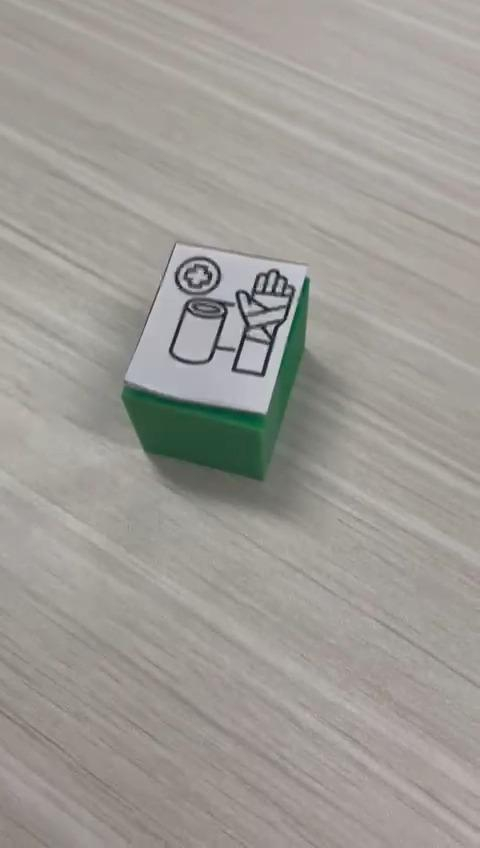Bandages: (120, 243, 311, 481)
